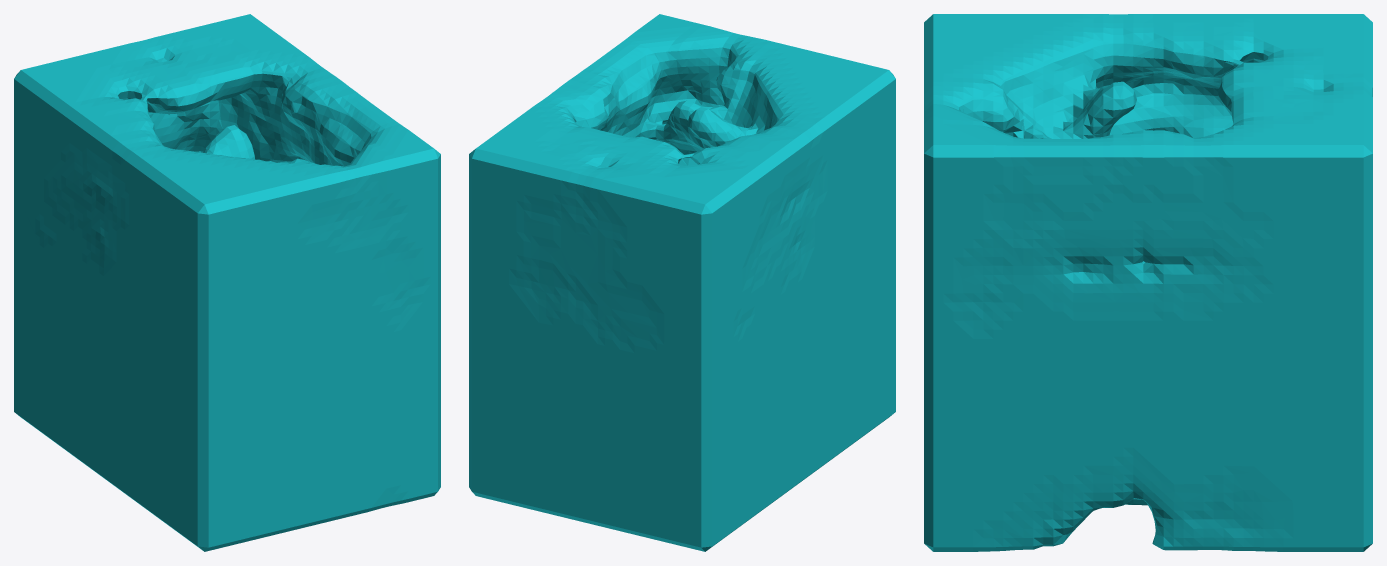
The picture shows the model from 3 angles, left to right: view 1: azimuth 30°, elevation 25°; view 2: azimuth 150°, elevation 25°; view 3: azimuth 270°, elevation 25°; orthographic projection. The views are drawn at different scales.
Visible parts, largest first — view 1: Liquid_Domain; view 2: Liquid_Domain; view 3: Liquid_Domain.
Part boxes in pixels (left/top/right/bottom): Liquid_Domain: left=14, top=14, right=440, bottom=551; Liquid_Domain: left=469, top=14, right=895, bottom=551; Liquid_Domain: left=924, top=14, right=1372, bottom=551.
Bounding box in the file's own units: 79.09 × 108 × 108.
